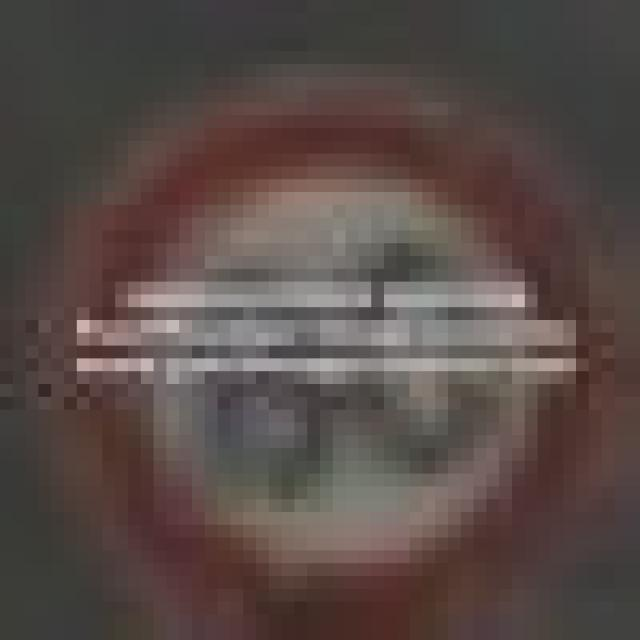SPEED_LIMIT_80: (51, 64, 627, 627)
